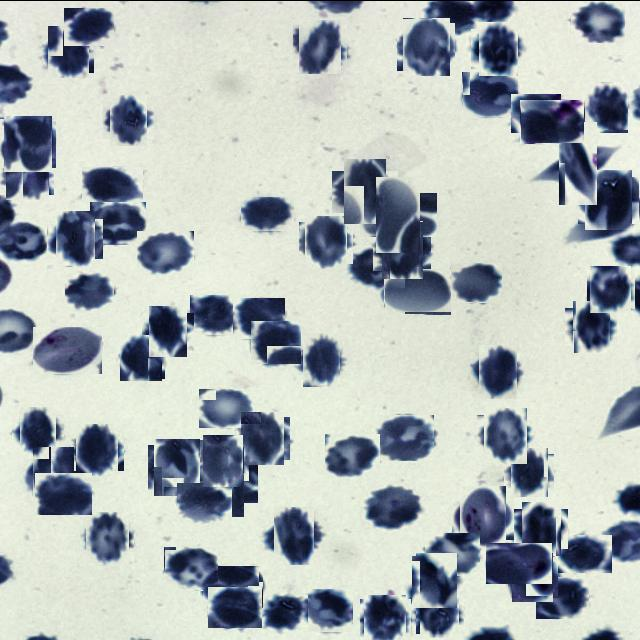red blood cell: (547, 132, 609, 194), (368, 184, 428, 244), (195, 453, 251, 509), (384, 268, 451, 314), (338, 164, 392, 218), (582, 172, 636, 226), (520, 99, 584, 143), (400, 19, 453, 72), (486, 542, 552, 583), (2, 116, 54, 168), (151, 441, 203, 493), (462, 71, 518, 117), (378, 414, 434, 460), (202, 565, 263, 607), (410, 554, 460, 605), (364, 484, 420, 529), (137, 230, 194, 274), (480, 410, 530, 460), (28, 450, 78, 500), (378, 224, 428, 274), (424, 532, 480, 576), (325, 433, 380, 477), (90, 201, 146, 244), (3, 147, 52, 196), (270, 510, 318, 560), (82, 514, 132, 562), (35, 472, 92, 514), (164, 546, 218, 590), (239, 413, 287, 462), (296, 21, 344, 70), (350, 245, 405, 287), (207, 586, 262, 628), (302, 218, 350, 266), (582, 82, 630, 130), (51, 214, 99, 262), (474, 24, 522, 72), (301, 588, 353, 632), (571, 0, 625, 42), (44, 27, 92, 74), (250, 320, 301, 364), (536, 576, 589, 618), (200, 436, 247, 483), (518, 504, 564, 552), (198, 388, 253, 428), (177, 482, 232, 522), (474, 347, 520, 394), (74, 426, 121, 472), (82, 166, 143, 201), (233, 297, 285, 338), (298, 336, 344, 382), (510, 554, 556, 600), (450, 262, 502, 302), (568, 303, 614, 348), (558, 534, 612, 572), (146, 308, 190, 354), (362, 596, 408, 640), (16, 409, 60, 454), (589, 266, 633, 311), (65, 272, 114, 312), (511, 93, 561, 132), (106, 97, 150, 141), (120, 335, 164, 379), (418, 592, 462, 636), (64, 7, 114, 45), (508, 450, 552, 493), (190, 294, 237, 334), (241, 196, 294, 230), (264, 594, 308, 630)
ring: (32, 326, 102, 374), (456, 488, 510, 542)
